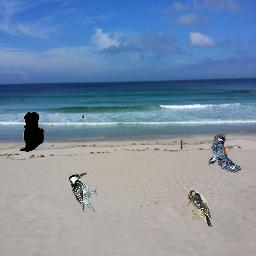Crow: (19, 112, 44, 152)
Woodpecker: (208, 133, 242, 173), (69, 172, 97, 212), (188, 189, 214, 229)
